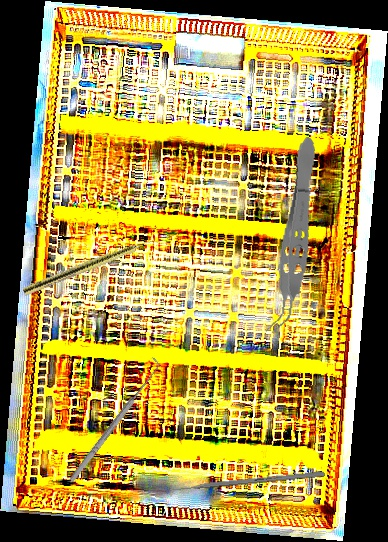Handpiece: (22, 233, 161, 298)
Hook Surgical: (62, 356, 166, 485)
Pusher: (161, 470, 325, 494)
Tissue Forceps: (264, 135, 325, 337)
